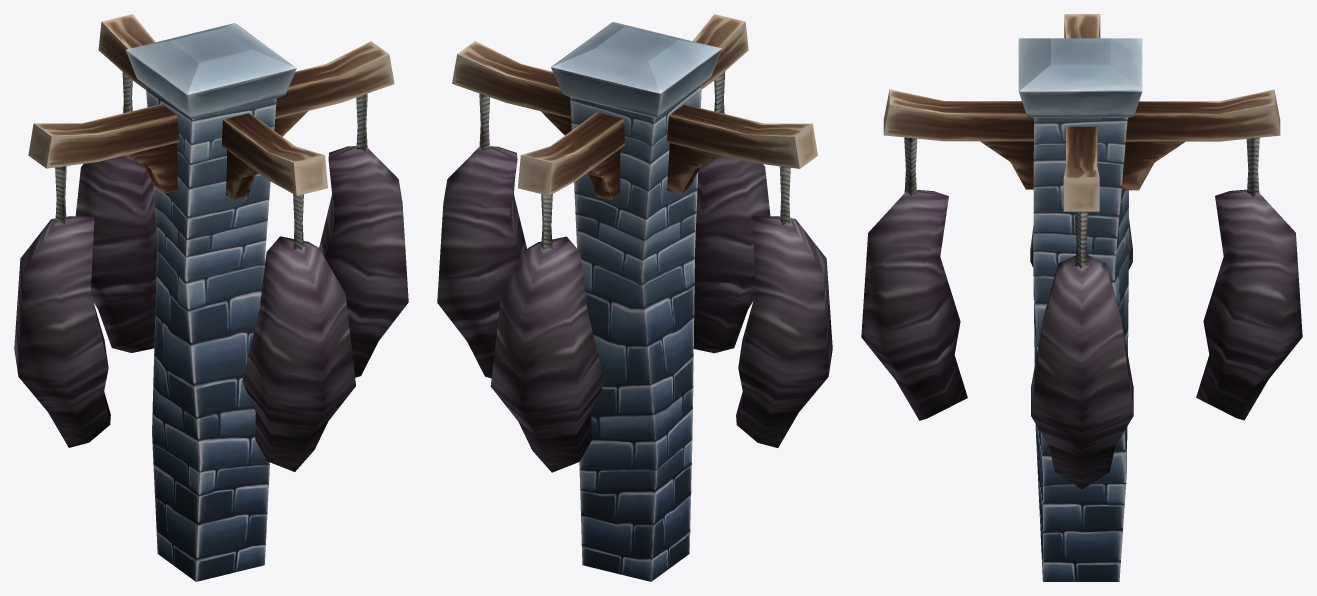
The model's file is Vampire_Village_Props_21.FBX.
3 renders of one model, left to right at view 1: azimuth 30°, elevation 25°; view 2: azimuth 150°, elevation 25°; view 3: azimuth 270°, elevation 25°, orthographic.
Parts seen in each view (by area): view 1: Vampire_Village_Props_21; view 2: Vampire_Village_Props_21; view 3: Vampire_Village_Props_21.
Boxes of the visible parts, left/top/right/bottom form: Vampire_Village_Props_21: left=14, top=14, right=408, bottom=581; Vampire_Village_Props_21: left=437, top=14, right=832, bottom=581; Vampire_Village_Props_21: left=861, top=14, right=1302, bottom=581.
Size of the model in its own units: 318 by 404 by 315.
